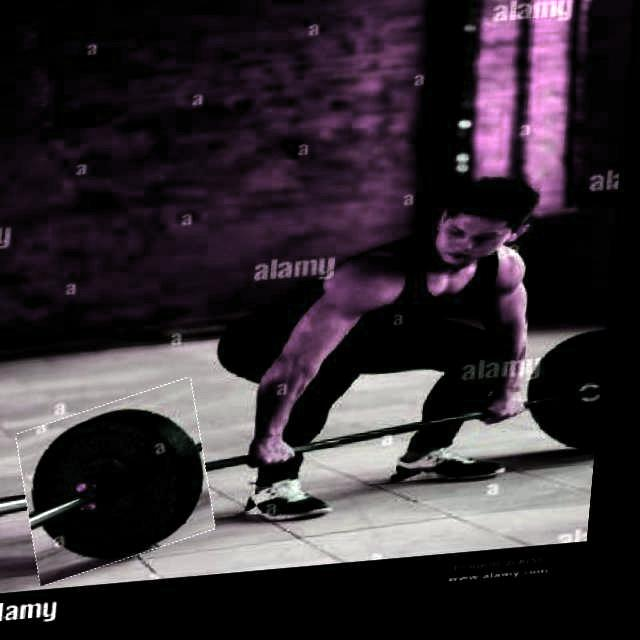barbell: (24, 390, 228, 582)
